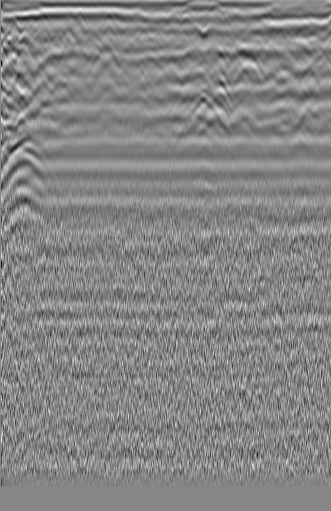상수: (285, 38, 316, 69)
오수: (9, 27, 43, 65)
우수: (149, 62, 181, 85)
